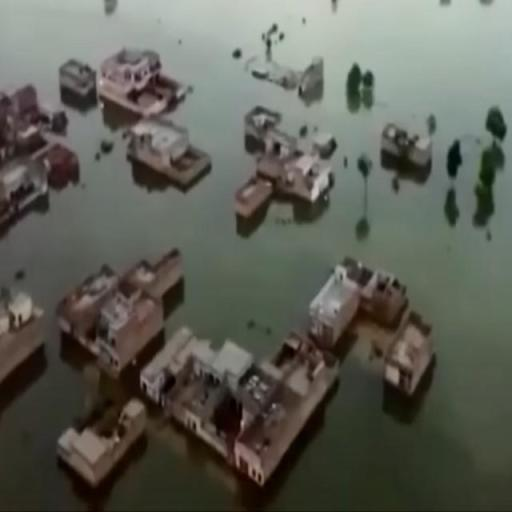flood: (0, 0, 512, 512)
house: (56, 251, 166, 371), (58, 396, 148, 492), (259, 126, 333, 206), (128, 116, 212, 186), (100, 50, 182, 115), (0, 287, 48, 381), (308, 266, 362, 348), (383, 324, 434, 396), (381, 124, 432, 164), (59, 58, 95, 100)
